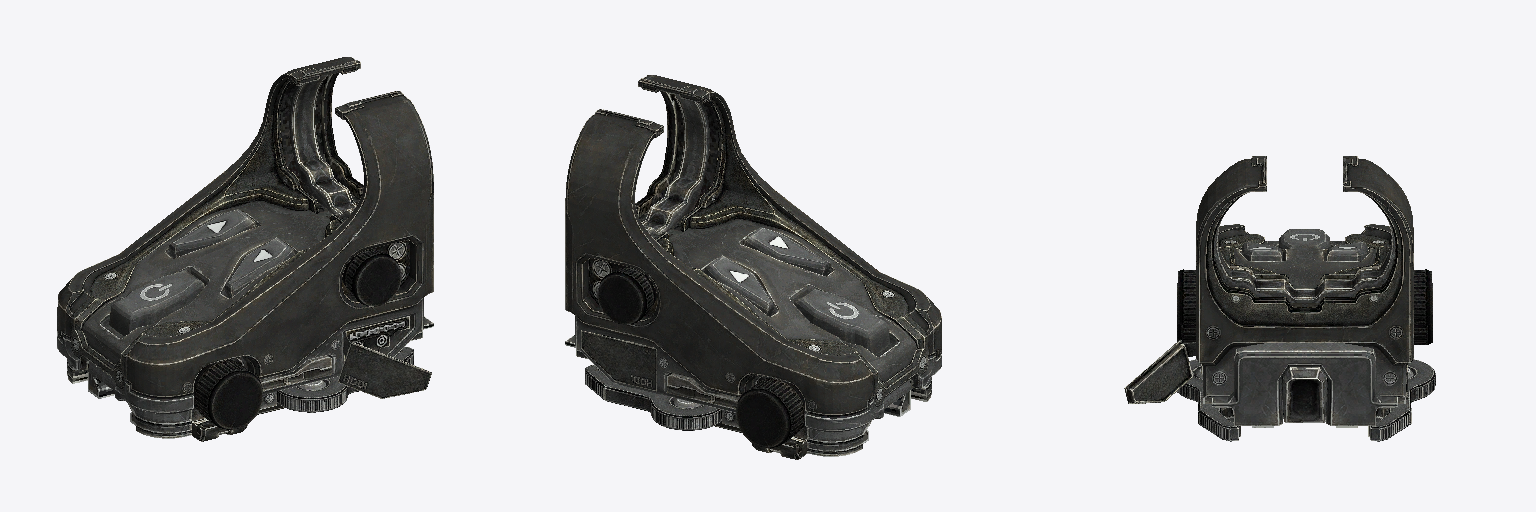
3 views of the same model, side by side, from view 1: azimuth 30°, elevation 25°; view 2: azimuth 150°, elevation 25°; view 3: azimuth 270°, elevation 25° (orthographic).
Parts seen in each view (by area): view 1: unsc_scope_2_0x_reflex; view 2: unsc_scope_2_0x_reflex; view 3: unsc_scope_2_0x_reflex.
Boxes of the visible parts, x1=… form: unsc_scope_2_0x_reflex: x1=57, y1=57, x2=433, y2=441; unsc_scope_2_0x_reflex: x1=565, y1=75, x2=941, y2=459; unsc_scope_2_0x_reflex: x1=1124, y1=156, x2=1435, y2=441.
Bounding box in the file's own units: 0.0553 × 0.0494 × 0.0504.
Materials: 1 (1 with a texture image).